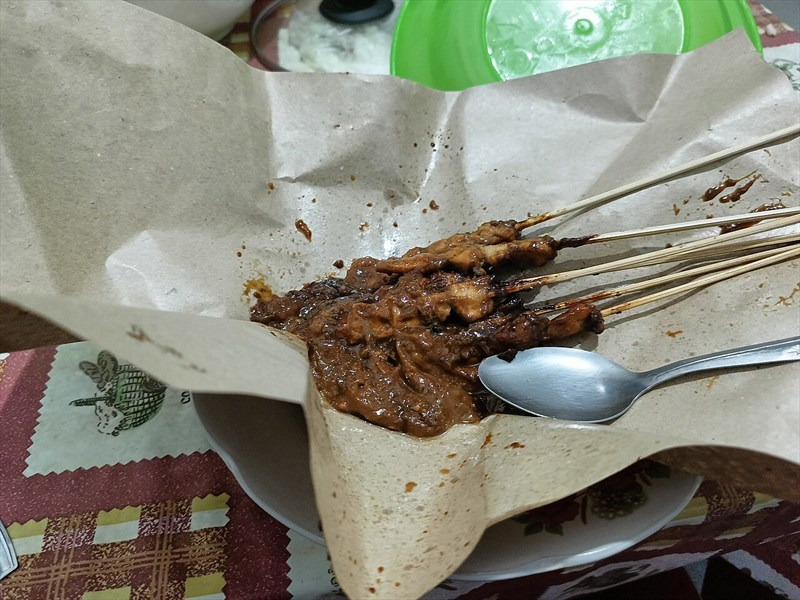Sate Ayam: (187, 29, 768, 581)
